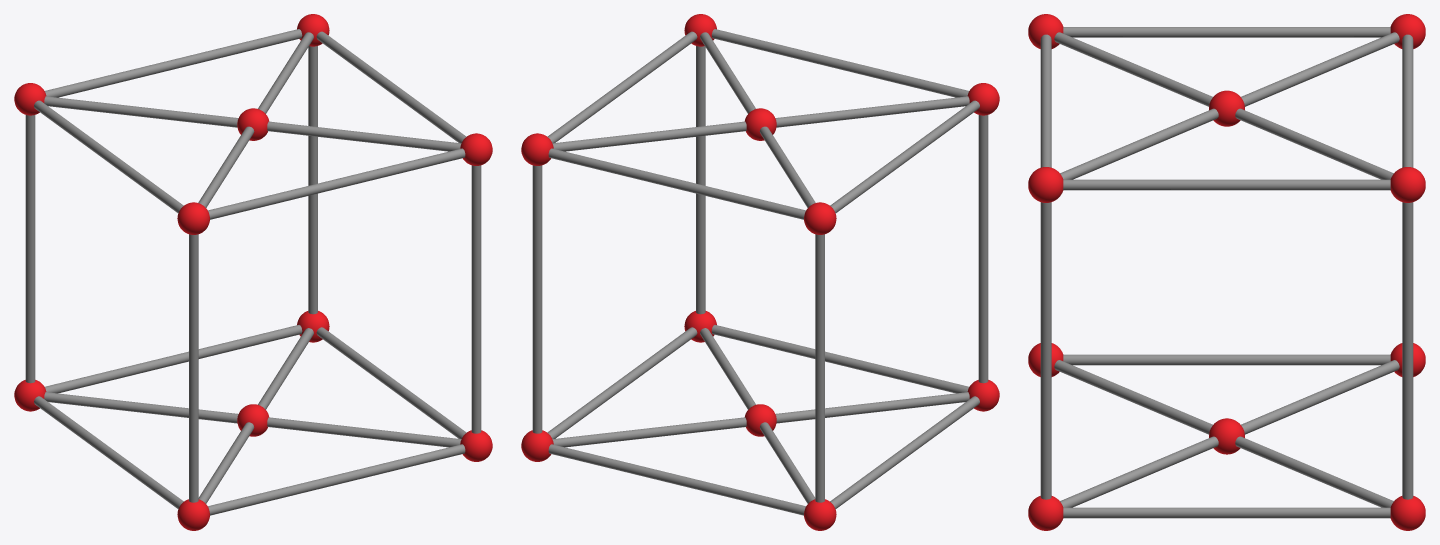
3 renders of one model, left to right at view 1: azimuth 30°, elevation 25°; view 2: azimuth 150°, elevation 25°; view 3: azimuth 270°, elevation 25°, orthographic. The views are drawn at different scales.
Parts seen in each view (by area): view 1: Цилиндр_Node (×16), Сферы_Node (×10); view 2: Цилиндр_Node (×16), Сферы_Node (×10); view 3: Цилиндр_Node (×12), Сферы_Node (×10).
Part boxes in pixels (box(x1,y1,x2,y2)): Цилиндр_Node (×16): box(25, 29, 481, 515); Сферы_Node (×10): box(14, 14, 492, 530); Цилиндр_Node (×16): box(532, 29, 988, 515); Сферы_Node (×10): box(521, 14, 999, 530); Цилиндр_Node (×12): box(1040, 27, 1413, 518); Сферы_Node (×10): box(1028, 14, 1425, 530).
Bounding box in the file's own units: 4.33 × 4.33 × 4.33.
Materials: 17 (1 with a texture image).
